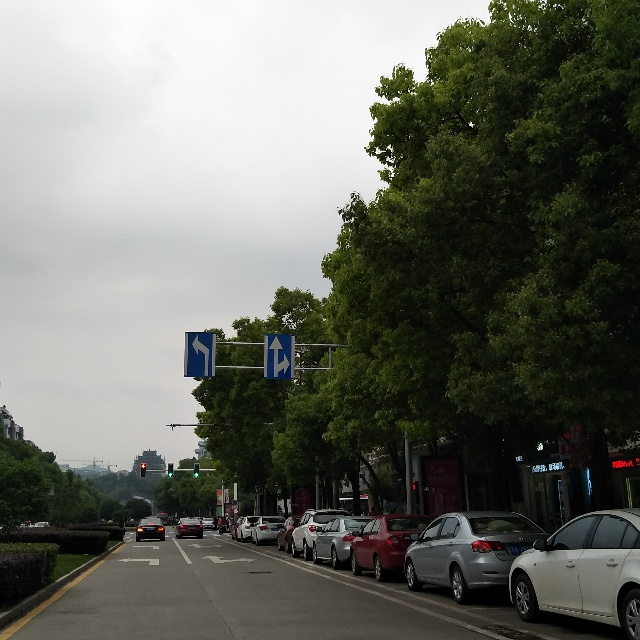left: (185, 332, 215, 376)
